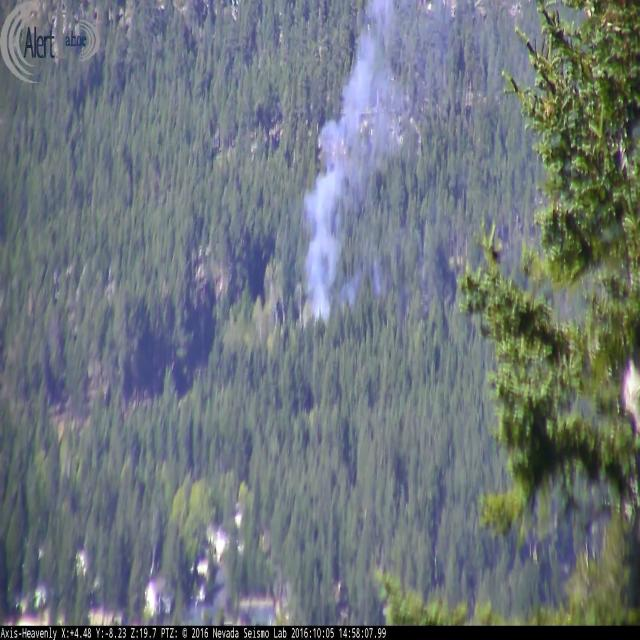smoke: (303, 0, 442, 330)
